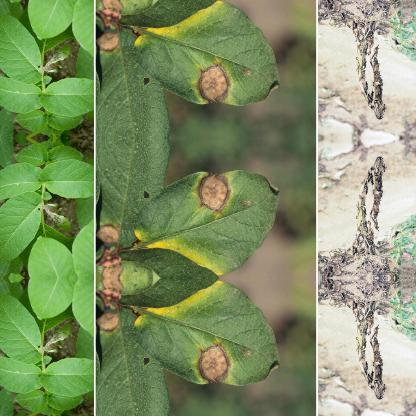Late-Blight: (96, 154, 280, 276), (96, 278, 280, 400), (96, 0, 279, 120), (316, 152, 410, 276), (316, 278, 410, 402), (315, 0, 410, 122)
